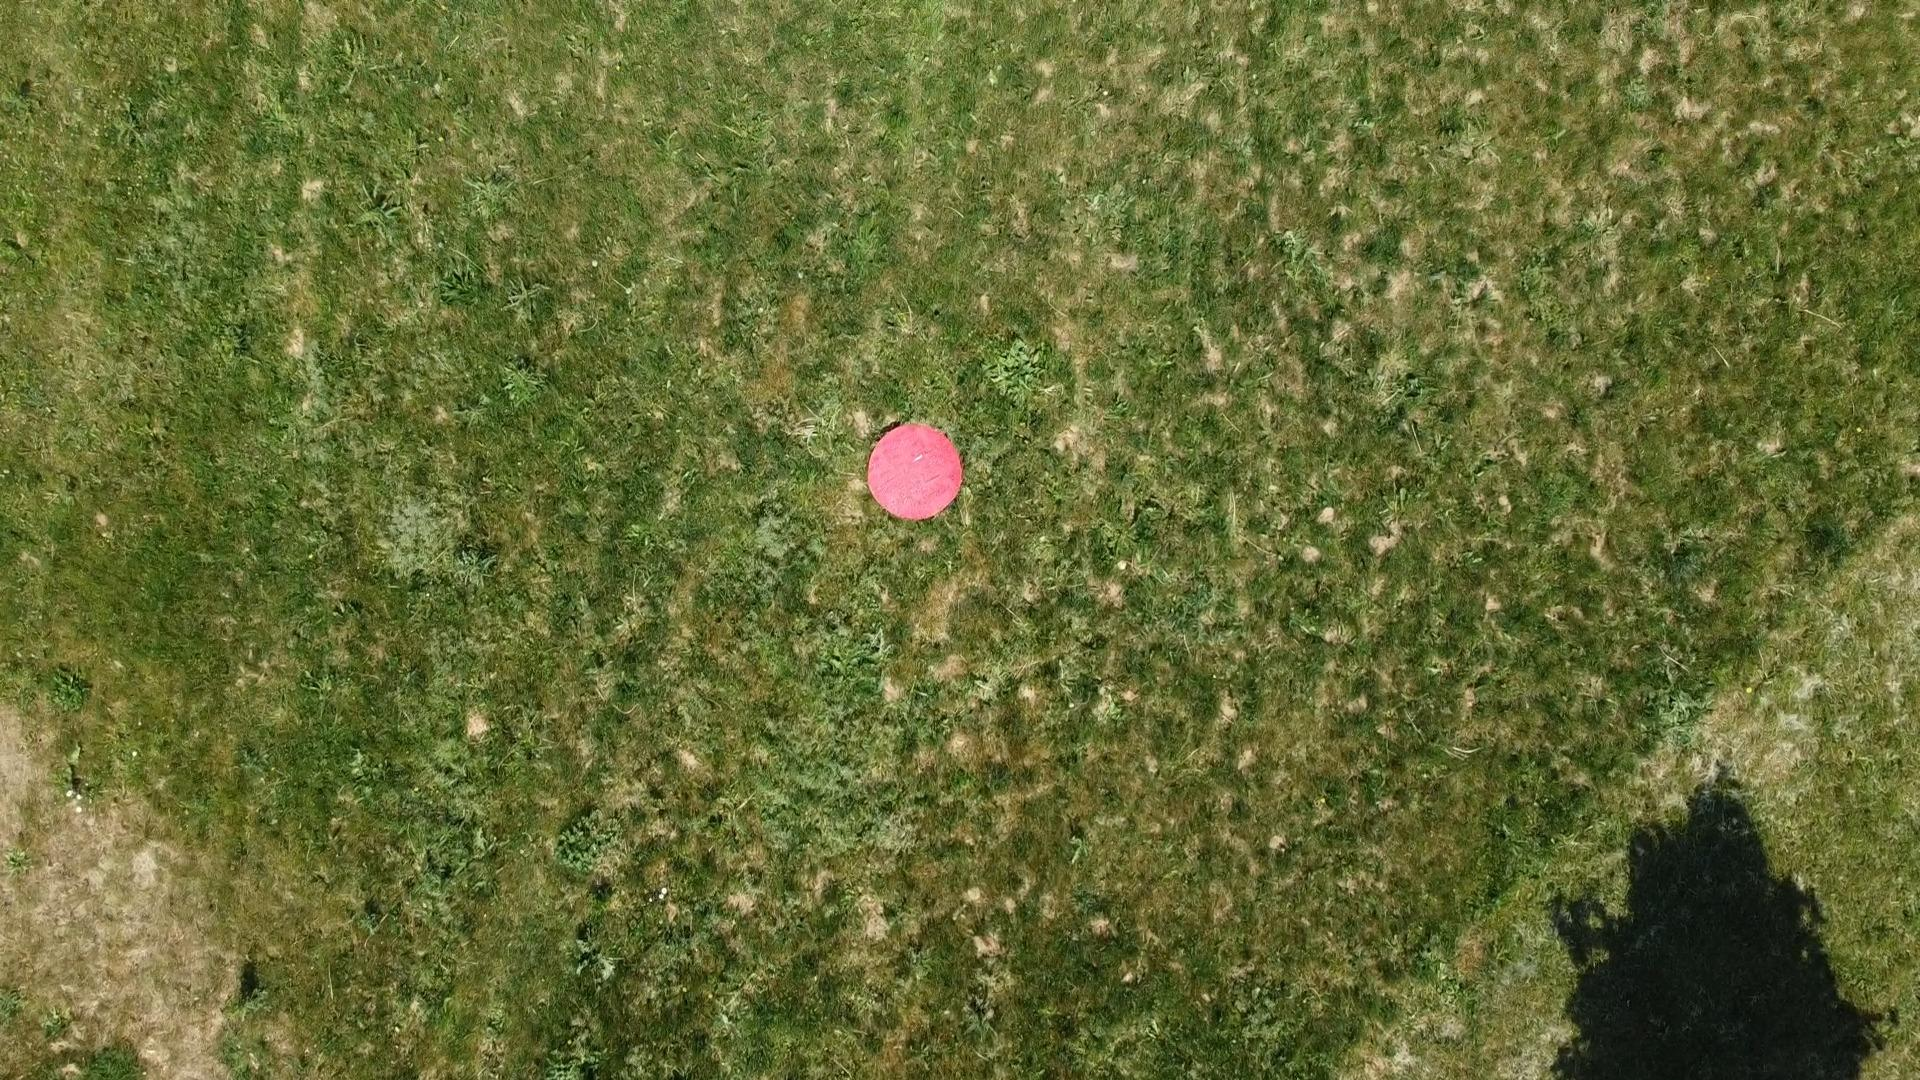Red: (865, 419, 971, 525)
